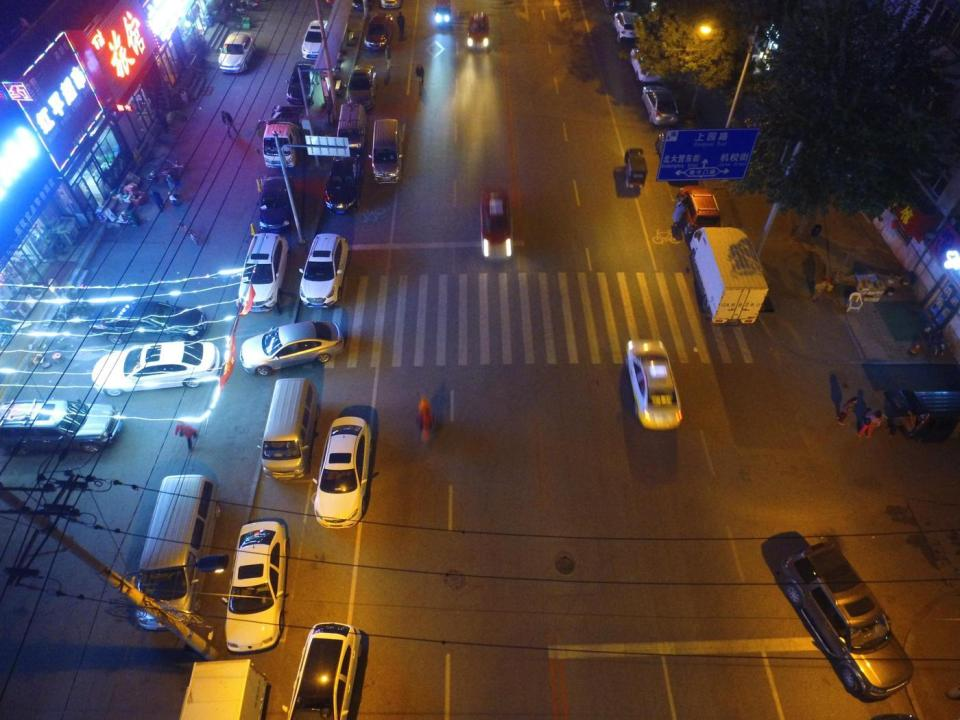car: (780, 541, 914, 699), (224, 522, 288, 653), (285, 622, 362, 719), (92, 339, 218, 395), (0, 399, 123, 455), (314, 415, 372, 529), (240, 317, 346, 377), (626, 340, 683, 430), (90, 300, 206, 340), (241, 232, 290, 315), (300, 230, 350, 309), (478, 192, 513, 264), (327, 151, 363, 214), (677, 187, 721, 237), (657, 129, 700, 180), (260, 175, 293, 230), (641, 84, 678, 127), (219, 31, 256, 73), (286, 62, 320, 106), (345, 64, 376, 111), (630, 47, 664, 83), (300, 20, 332, 57), (614, 10, 644, 45), (368, 12, 394, 52), (466, 10, 488, 52), (437, 0, 453, 26), (605, 0, 632, 14), (382, 0, 404, 10)
truck: (689, 227, 768, 326), (180, 659, 270, 720), (264, 107, 304, 167)
van: (136, 474, 221, 631), (260, 376, 319, 481), (885, 385, 957, 439), (370, 119, 402, 183), (334, 103, 366, 151)
